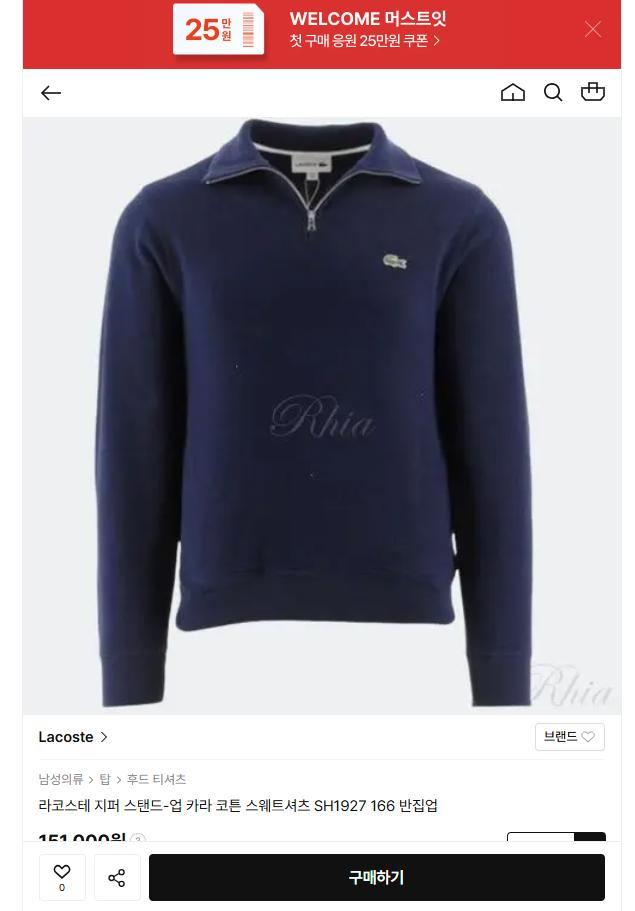button: (152, 855, 600, 899), (33, 855, 89, 896), (96, 850, 139, 895), (540, 723, 601, 754), (36, 729, 106, 743), (500, 82, 530, 105), (581, 81, 610, 101), (35, 84, 68, 101), (540, 84, 564, 101)
popup: (22, 0, 615, 70)
